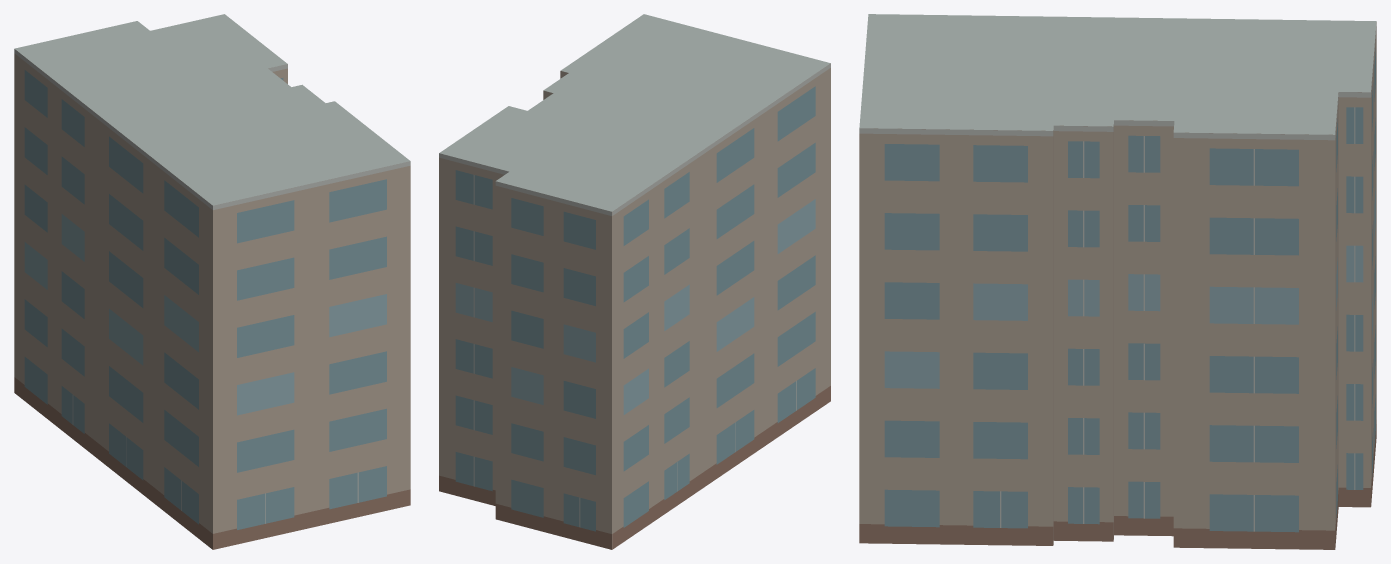
File: survey-upis-32991495.glb
3 renders of one model, left to right at view 1: azimuth 30°, elevation 25°; view 2: azimuth 150°, elevation 25°; view 3: azimuth 270°, elevation 25°, orthographic. The views are drawn at different scales.
Parts seen in each view (by area): view 1: survey-upis-32991495.tmp; view 2: survey-upis-32991495.tmp; view 3: survey-upis-32991495.tmp.
Part boxes in pixels (x1=…): survey-upis-32991495.tmp: x1=14, y1=14, x2=410, y2=549; survey-upis-32991495.tmp: x1=439, y1=14, x2=830, y2=549; survey-upis-32991495.tmp: x1=859, y1=14, x2=1376, y2=549.
Size of the model in its own units: 11.65 by 18.65 by 21.07.
